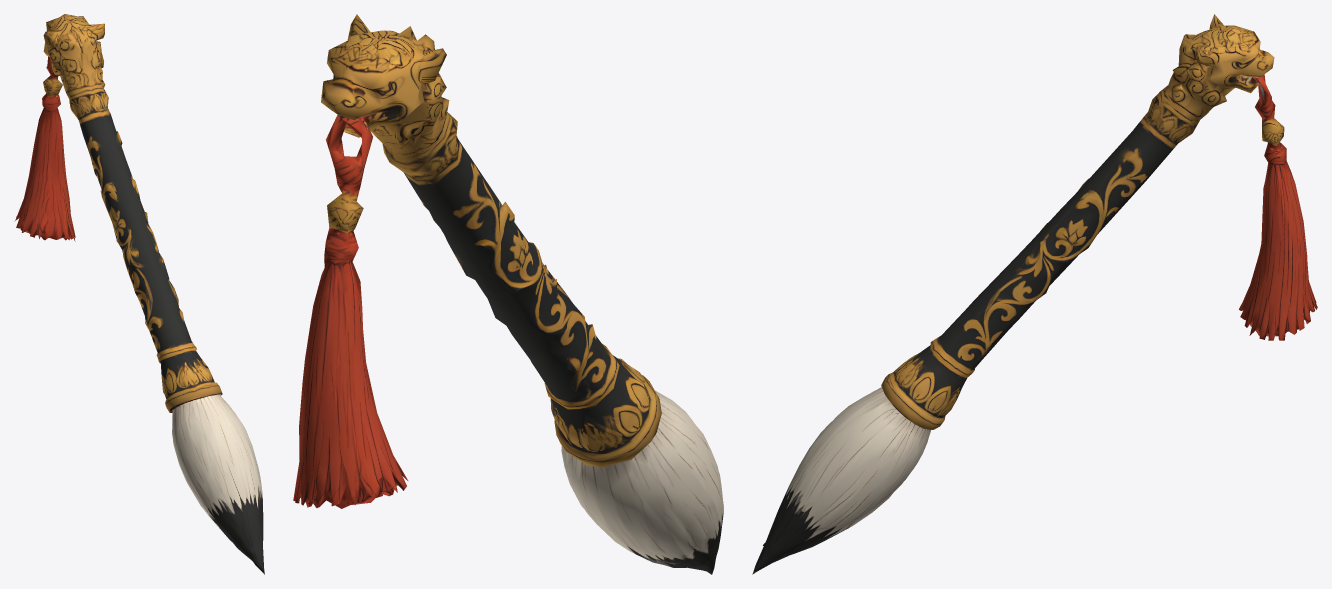
Rendered from brush.glb.
3 views of the same model, side by side, from view 1: azimuth 30°, elevation 25°; view 2: azimuth 150°, elevation 25°; view 3: azimuth 270°, elevation 25° (orthographic). The views are drawn at different scales.
Parts seen in each view (by area): view 1: tripo_node_b55e2fb4-101f-4fa0-8bcd-5a35e301c810; view 2: tripo_node_b55e2fb4-101f-4fa0-8bcd-5a35e301c810; view 3: tripo_node_b55e2fb4-101f-4fa0-8bcd-5a35e301c810.
Part boxes in pixels (bbox=[...]): tripo_node_b55e2fb4-101f-4fa0-8bcd-5a35e301c810: bbox=[14, 14, 264, 574]; tripo_node_b55e2fb4-101f-4fa0-8bcd-5a35e301c810: bbox=[293, 14, 723, 574]; tripo_node_b55e2fb4-101f-4fa0-8bcd-5a35e301c810: bbox=[752, 14, 1317, 574].
Size of the model in its own units: 0.169 by 1 by 0.9474.
Materials: 1 (1 with a texture image).
